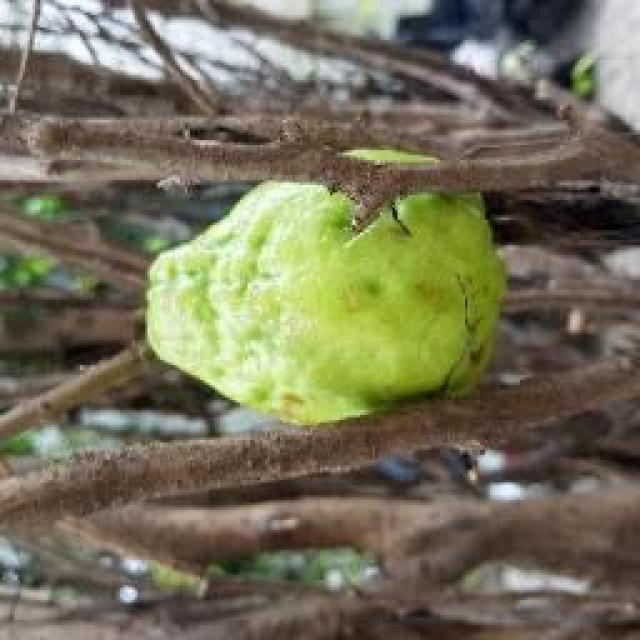Good_Guava: (142, 180, 508, 428)
